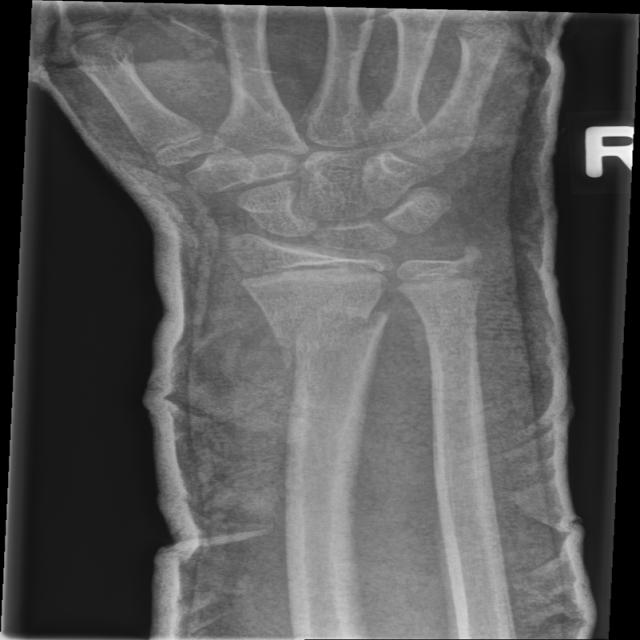radius fracture: (241, 300, 407, 384)
